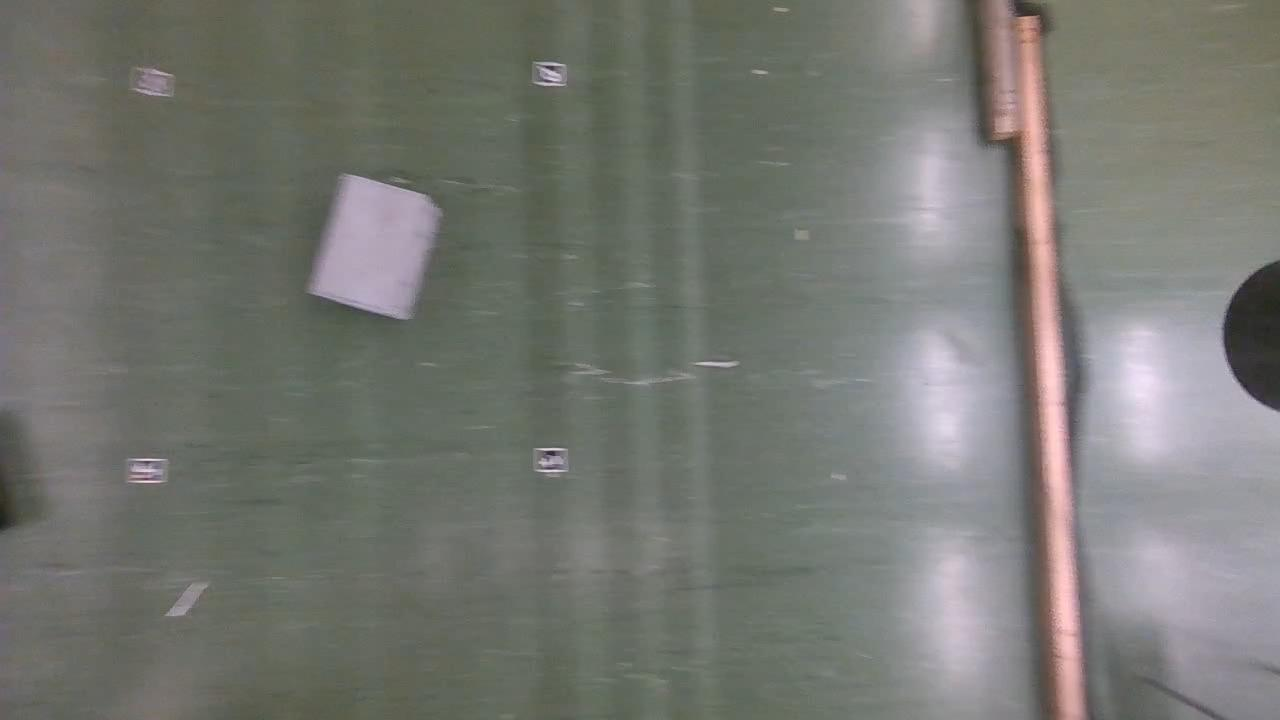probes: (165, 583, 208, 616), (696, 361, 738, 368)
rako: (307, 175, 442, 318)
